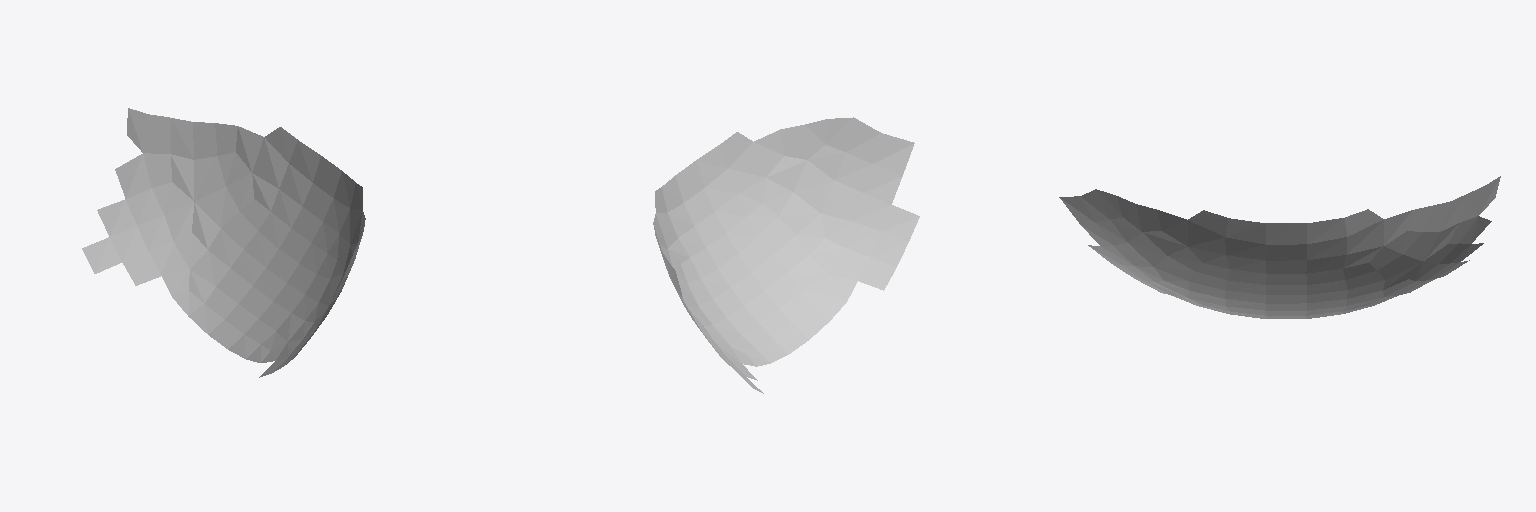
The model's file is playerMouth.obj.
3 views of the same model, side by side, from view 1: azimuth 30°, elevation 25°; view 2: azimuth 150°, elevation 25°; view 3: azimuth 270°, elevation 25° (orthographic).
Parts seen in each view (by area): view 1: RLB_Cube.003; view 2: RLB_Cube.003; view 3: RLB_Cube.003.
Part boxes in pixels (left/top/right/bottom): RLB_Cube.003: left=82, top=108, right=365, bottom=377; RLB_Cube.003: left=653, top=117, right=919, bottom=393; RLB_Cube.003: left=1059, top=176, right=1500, bottom=318.
Bounding box in the file's own units: 0.211 × 0.2049 × 0.5105.